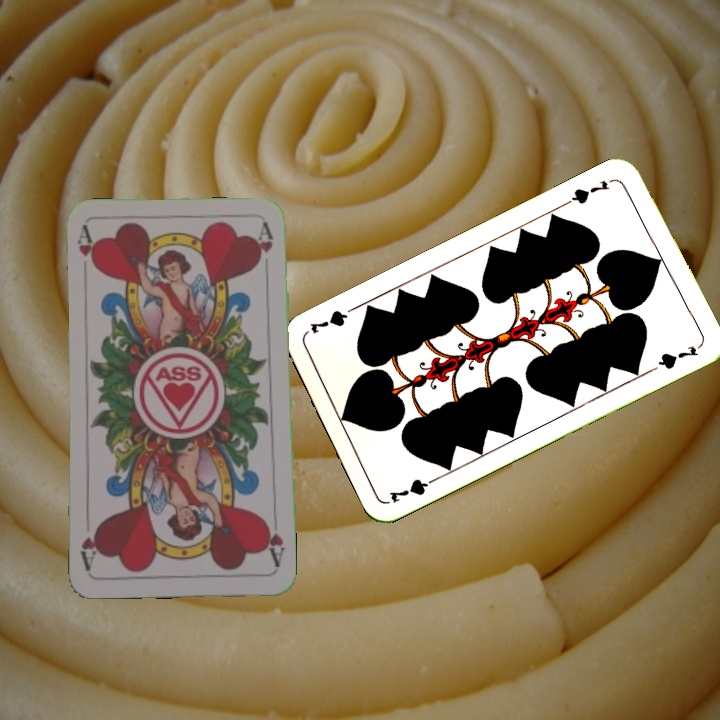G7: (385, 472, 442, 505), (562, 174, 618, 207)
HA: (261, 515, 288, 570), (73, 223, 99, 271)
